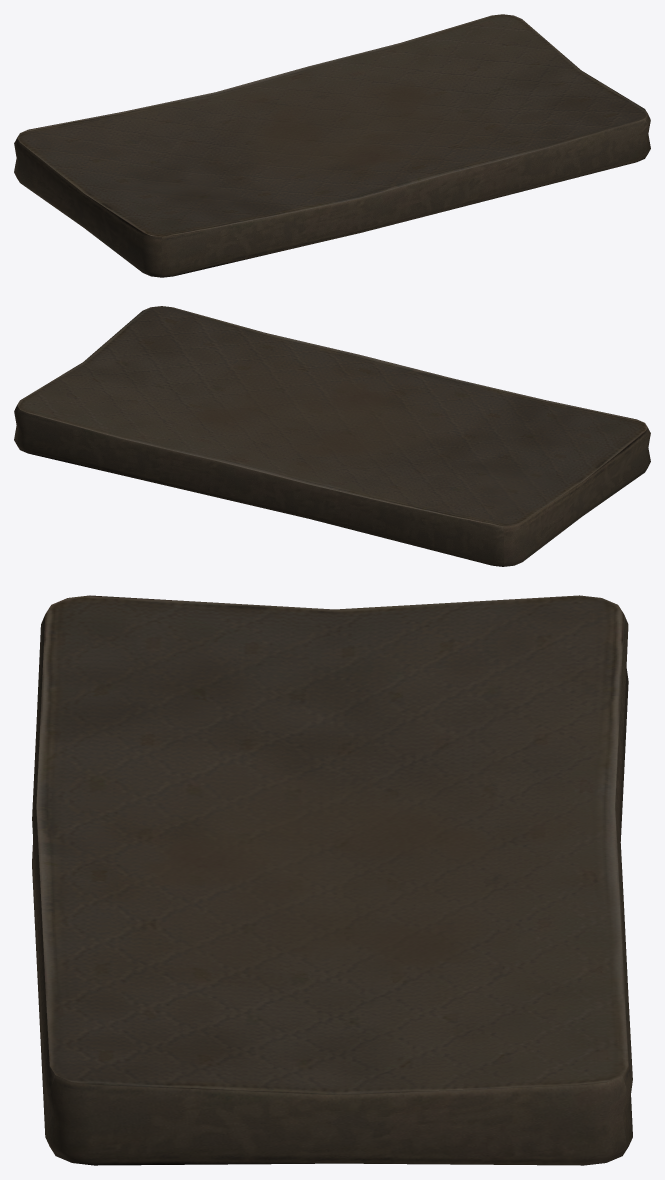
Rendered from old_mattress_mp_1.obj.
The picture shows the model from 3 angles, top to bottom: view 1: azimuth 30°, elevation 25°; view 2: azimuth 150°, elevation 25°; view 3: azimuth 270°, elevation 25°; orthographic projection. The views are drawn at different scales.
Parts seen in each view (by area): view 1: old_mattress_mp_1; view 2: old_mattress_mp_1; view 3: old_mattress_mp_1.
Boxes of the visible parts, x1,y1,x2,y2 form: old_mattress_mp_1: (14,14,650,277); old_mattress_mp_1: (14,306,650,566); old_mattress_mp_1: (32,595,632,1165).
Size of the model in its own units: 2.62 by 0.2 by 1.35.
